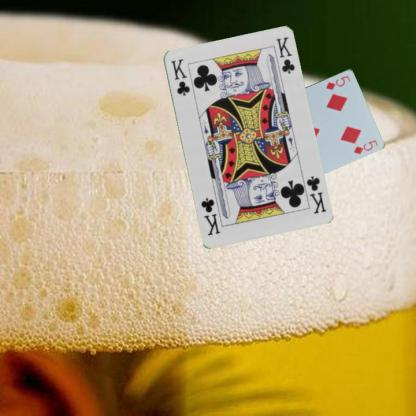5d: (323, 73, 351, 91)
Kc: (303, 173, 327, 215), (168, 56, 191, 97)
